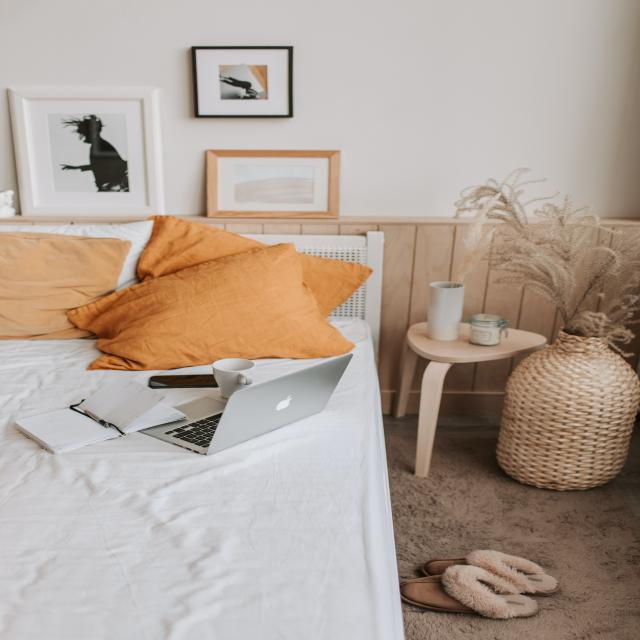bed: (0, 227, 401, 640)
computer: (158, 363, 369, 449)
cup: (200, 350, 272, 410)
phone: (130, 362, 248, 396)
table: (407, 310, 541, 471)
